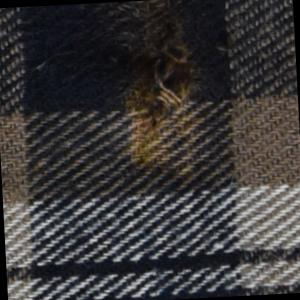Damage: (108, 1, 222, 195)
Oil Stain: (120, 80, 197, 190)
